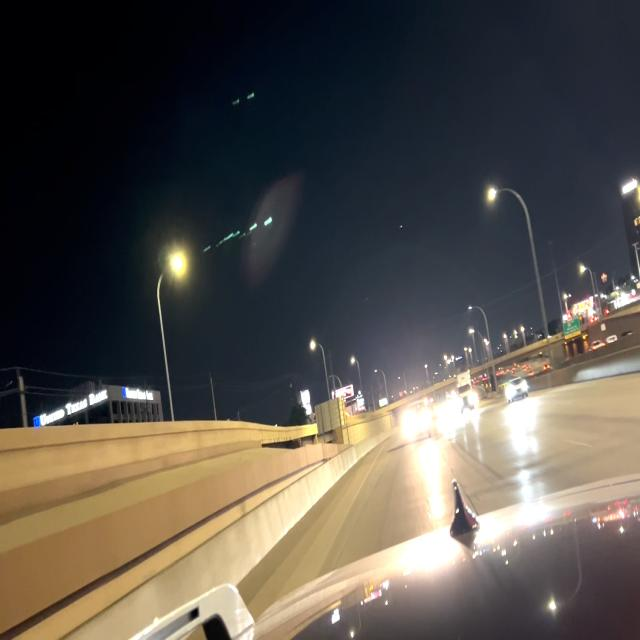back-of-sign: (314, 396, 344, 438)
